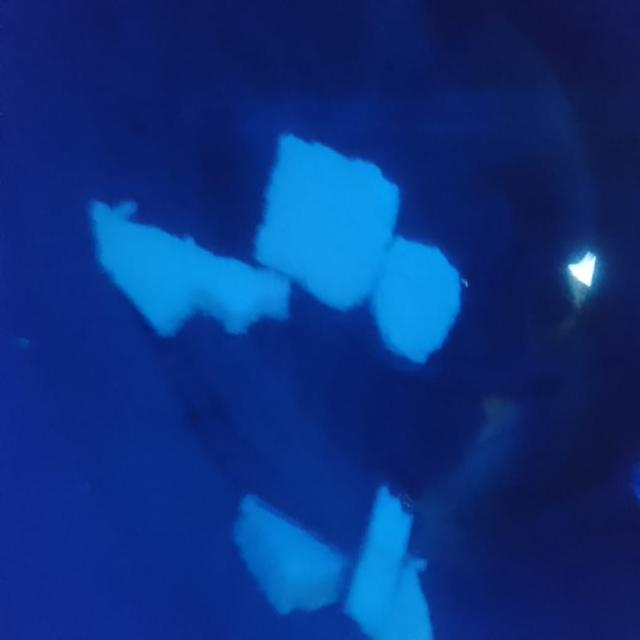litter: (85, 134, 474, 367), (74, 185, 301, 374), (227, 111, 411, 319), (213, 455, 349, 640), (343, 467, 446, 640), (381, 229, 478, 360)
